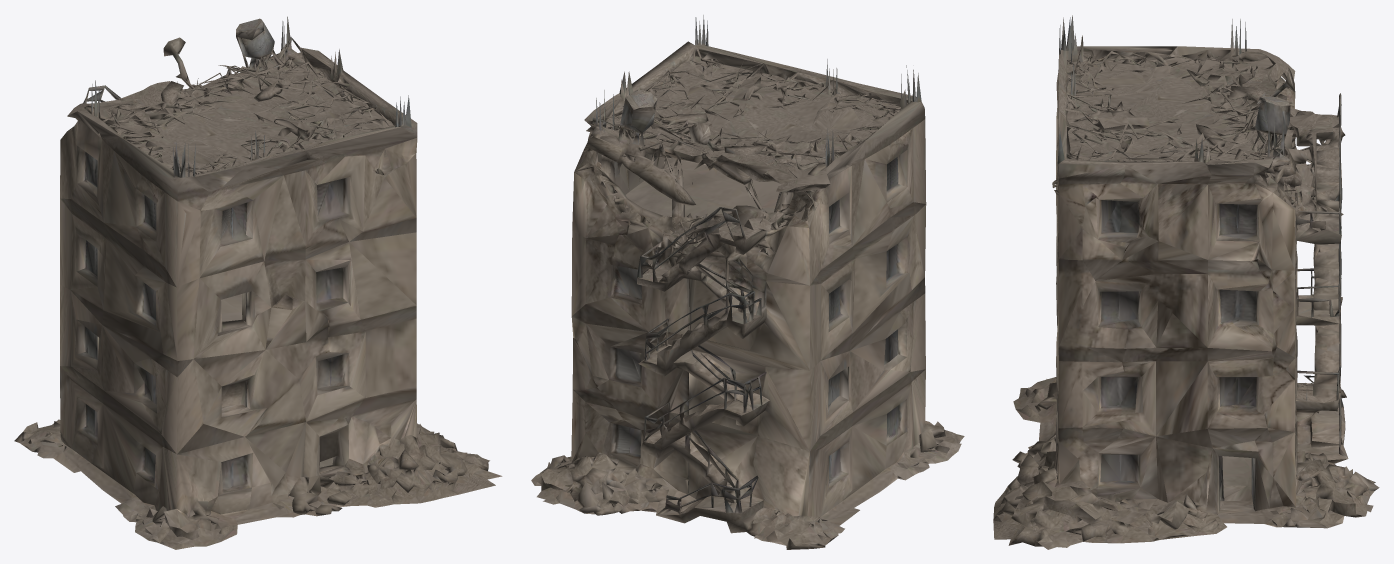
Rendered from apartment_wreck.glb.
The picture shows the model from 3 angles, left to right: view 1: azimuth 30°, elevation 25°; view 2: azimuth 150°, elevation 25°; view 3: azimuth 270°, elevation 25°; orthographic projection.
Parts seen in each view (by area): view 1: wall, roof; view 2: wall, roof; view 3: wall, roof.
Part boxes in pixels (<box>): wall: <box>14,16,488,546</box>; roof: <box>20,18,502,549</box>; wall: <box>535,15,960,549</box>; roof: <box>531,44,964,545</box>; wall: <box>993,15,1379,546</box>; roof: <box>993,46,1374,549</box>.
Size of the model in its own units: 21.2 by 23.23 by 20.73.
1 material, 1 textured.
